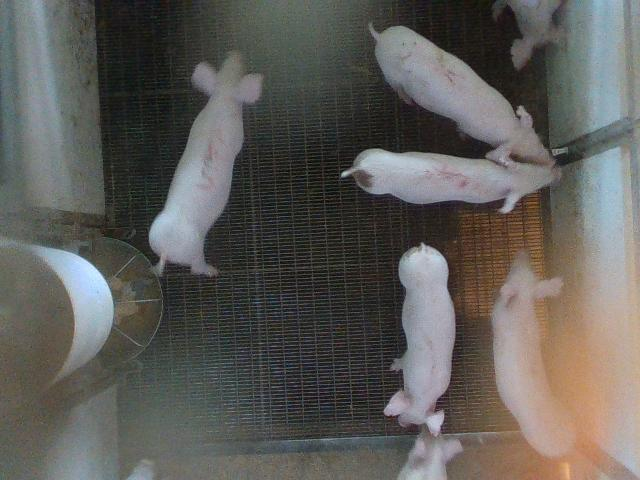pig-3: (149, 51, 264, 276)
pig-5: (341, 149, 560, 213)
